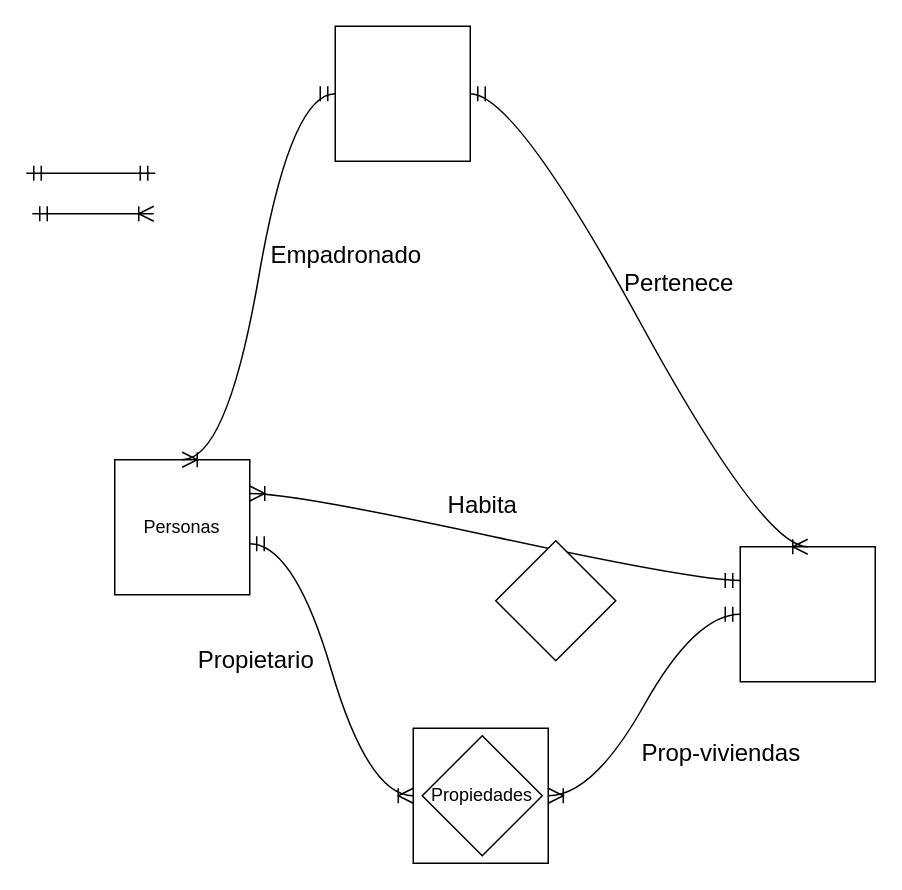
This 902x890 diagram has some shape labels left out. The box of each missing label's shape, as (x1, y1, x2, y2) in pixels:
Municipalidades: (334, 25, 470, 161)
Viviendas: (739, 545, 875, 682)
